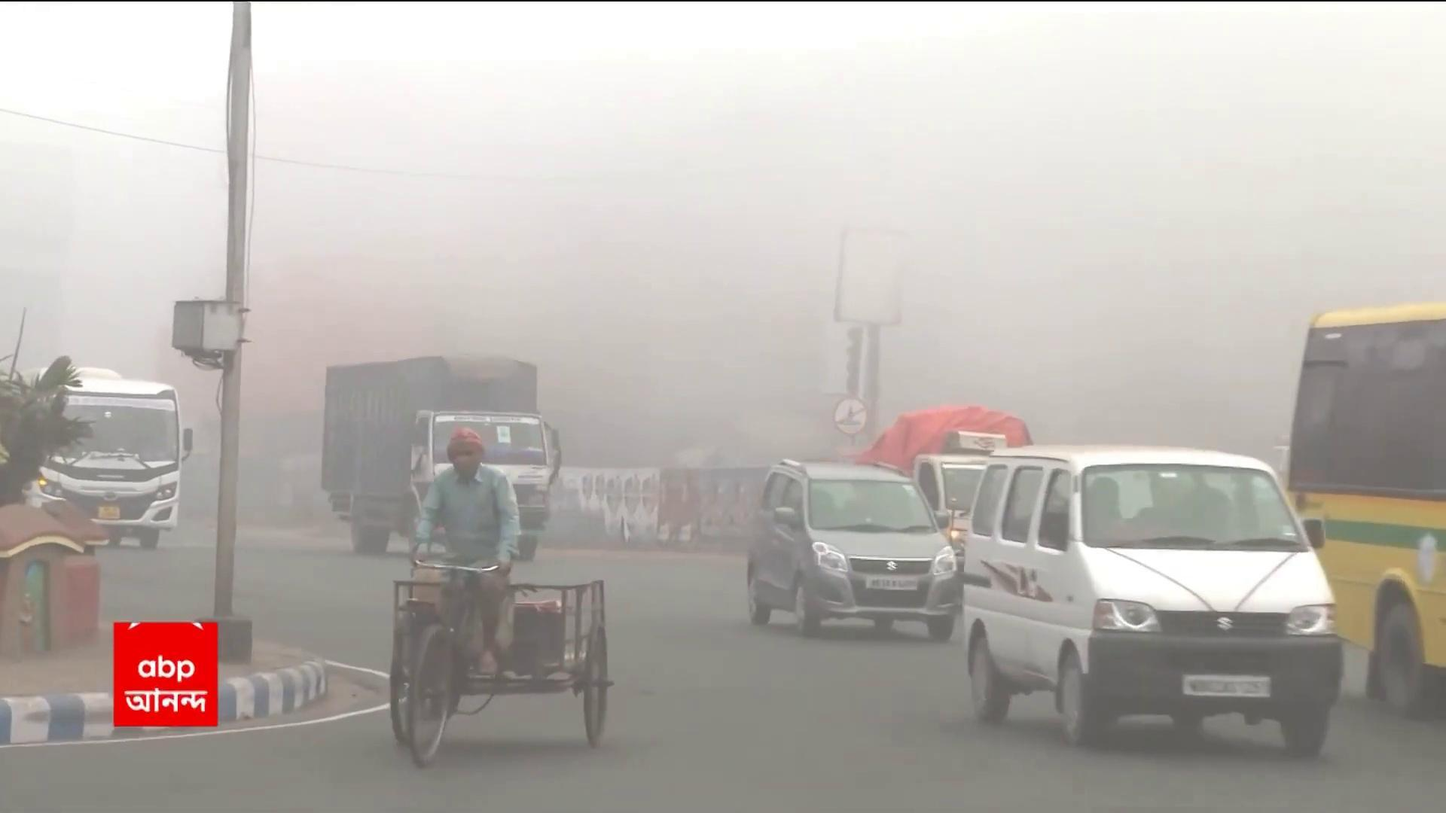Bus: (27, 361, 187, 557)
Car: (961, 438, 1347, 761), (740, 455, 956, 641)
Truck: (320, 359, 560, 563)
